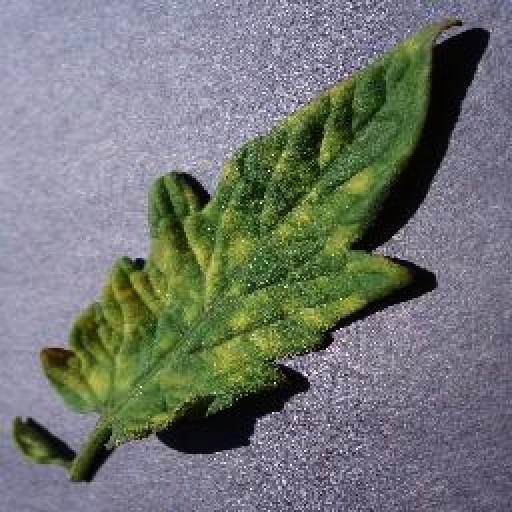disease_tomato: (44, 18, 462, 452)
